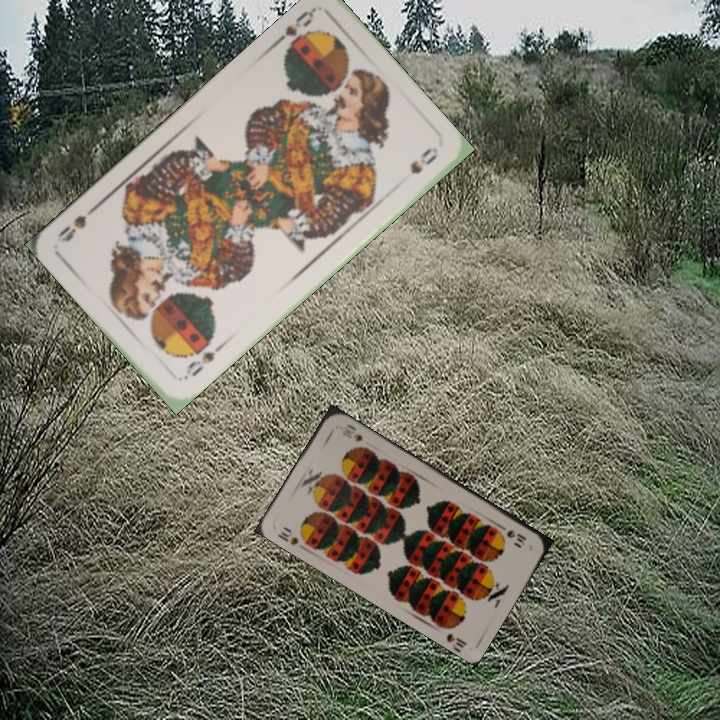S10: (495, 521, 529, 548), (273, 522, 301, 548)
SO: (269, 5, 317, 59), (179, 337, 227, 383)
